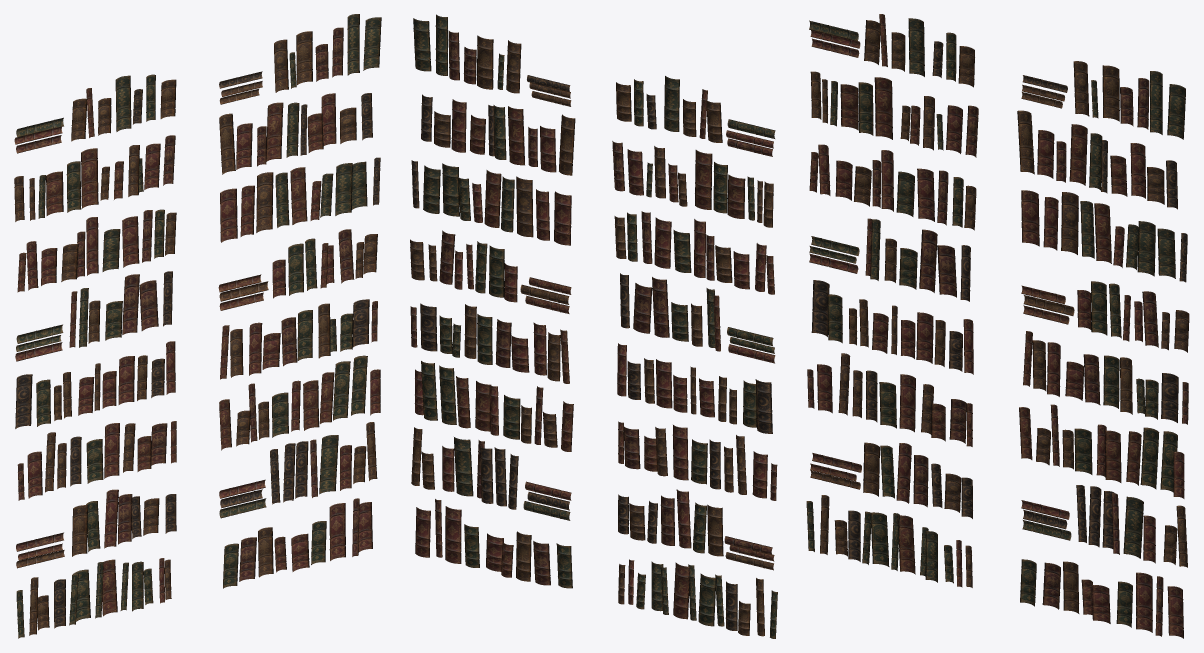
The model's file is StudyBindings.fbx.
The picture shows the model from 3 angles, left to right: view 1: azimuth 30°, elevation 25°; view 2: azimuth 150°, elevation 25°; view 3: azimuth 330°, elevation 25°; orthographic projection. The views are drawn at different scales.
Visible parts, largest first — view 1: StudyBindings; view 2: StudyBindings; view 3: StudyBindings.
Boxes of the visible parts, x1,y1,x2,y2 form: StudyBindings: [14, 14, 381, 638]; StudyBindings: [410, 14, 777, 638]; StudyBindings: [806, 14, 1189, 638].
Bounding box in the file's own units: 986 × 1398 × 27.33.
